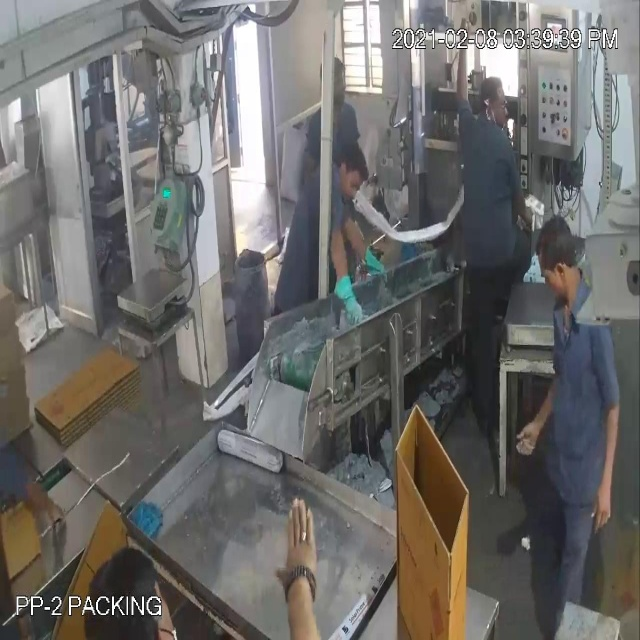Guantes: (330, 226, 365, 332)
Sin_guantes: (267, 492, 331, 630), (500, 358, 564, 479), (589, 377, 634, 548)
